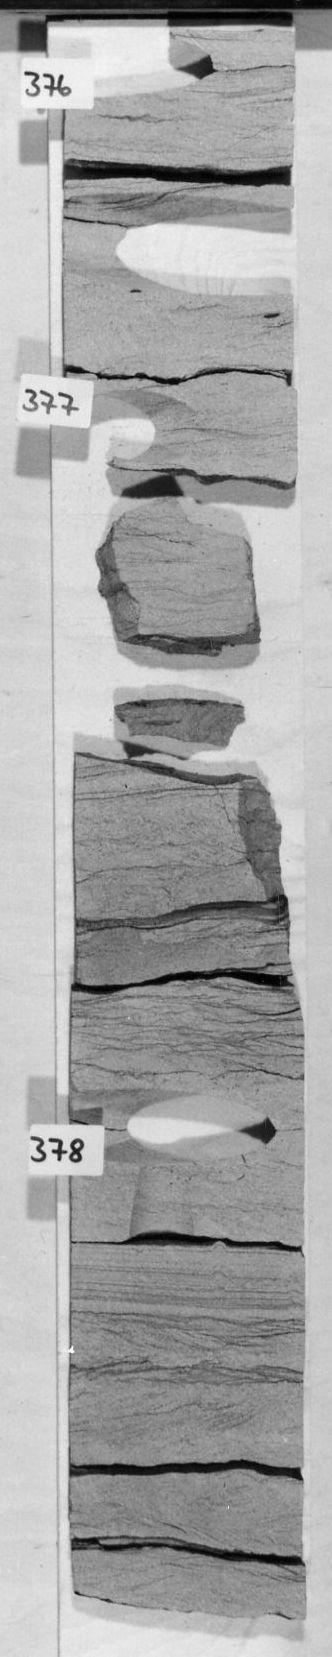hplug: (94, 1088, 284, 1163), (90, 385, 203, 465), (104, 32, 225, 101)
scal: (63, 187, 291, 306)
vplug: (125, 1163, 196, 1245)
